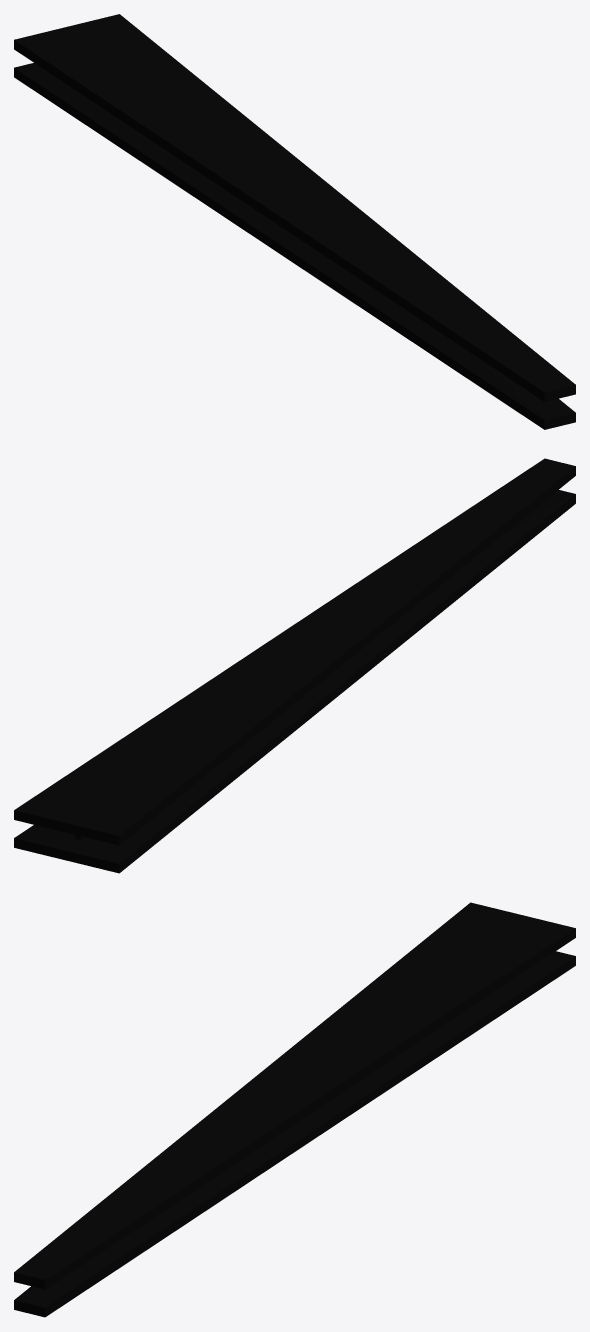
File: Fan Closed - Textured Low Poly Asian Weapon Pack by Kickin It Studios.fbx
The picture shows the model from 3 angles, top to bottom: view 1: azimuth 30°, elevation 25°; view 2: azimuth 150°, elevation 25°; view 3: azimuth 330°, elevation 25°; orthographic projection.
Parts seen in each view (by area): view 1: Fan Closed; view 2: Fan Closed; view 3: Fan Closed.
Part boxes in pixels (bbox=[...]): Fan Closed: bbox=[14, 14, 575, 429]; Fan Closed: bbox=[14, 458, 575, 873]; Fan Closed: bbox=[14, 902, 575, 1317].
Bounding box in the file's own units: 37.05 × 12.58 × 300.
